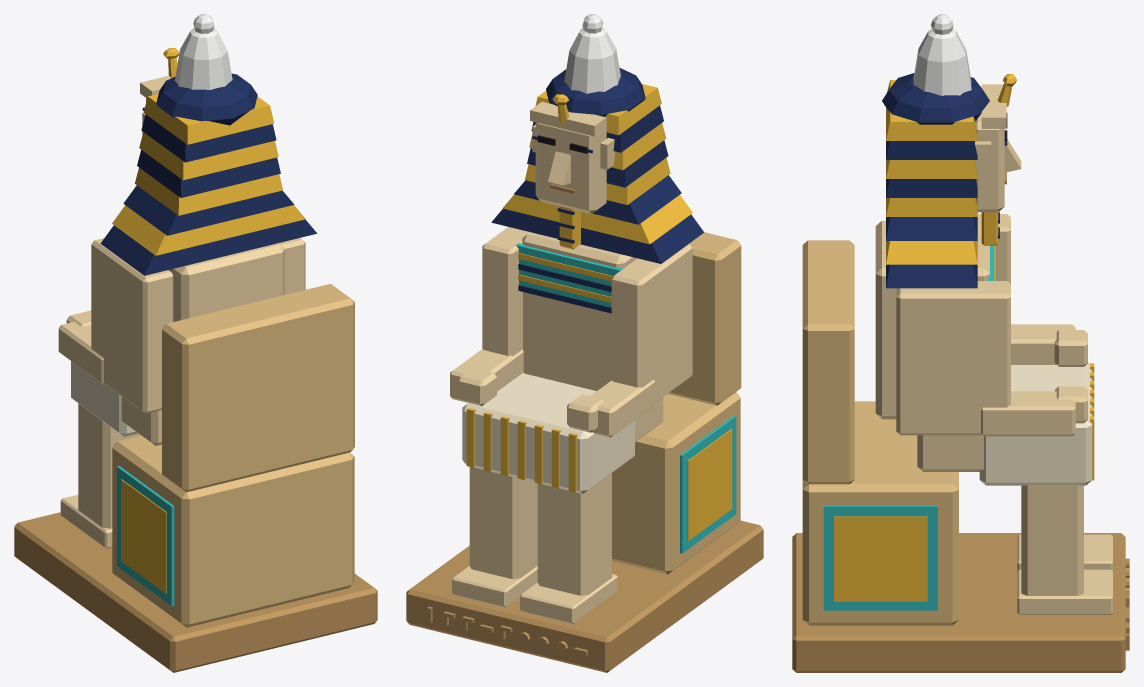
File: PharaohStatue.fbx
The picture shows the model from 3 angles, left to right: view 1: azimuth 30°, elevation 25°; view 2: azimuth 150°, elevation 25°; view 3: azimuth 270°, elevation 25°; orthographic projection. The views are drawn at different scales.
Parts seen in each view (by area): view 1: PharaohStatue_Sandstone, PharaohStatue_SandstoneLight, PharaohStatue_SandstoneDark, PharaohStatue_Navy, PharaohStatue_Gold, PharaohStatue_White, PharaohStatue_Turquoise, PharaohStatue_Cream; view 2: PharaohStatue_SandstoneLight, PharaohStatue_Sandstone, PharaohStatue_SandstoneDark, PharaohStatue_Gold, PharaohStatue_Navy, PharaohStatue_Cream, PharaohStatue_Turquoise, PharaohStatue_White; view 3: PharaohStatue_SandstoneLight, PharaohStatue_Sandstone, PharaohStatue_SandstoneDark, PharaohStatue_Gold, PharaohStatue_Navy, PharaohStatue_Cream, PharaohStatue_Turquoise, PharaohStatue_White.
Boxes of the visible parts, x1,y1,x2,y2 form: PharaohStatue_Sandstone: [112, 283, 354, 627]; PharaohStatue_SandstoneLight: [58, 75, 305, 548]; PharaohStatue_SandstoneDark: [14, 512, 377, 672]; PharaohStatue_Navy: [100, 73, 316, 275]; PharaohStatue_Gold: [112, 48, 305, 593]; PharaohStatue_White: [174, 14, 232, 89]; PharaohStatue_Turquoise: [117, 466, 174, 606]; PharaohStatue_Cream: [71, 361, 137, 436]; PharaohStatue_SandstoneLight: [450, 101, 692, 624]; PharaohStatue_Sandstone: [612, 232, 741, 574]; PharaohStatue_SandstoneDark: [406, 184, 763, 672]; PharaohStatue_Gold: [466, 84, 732, 541]; PharaohStatue_Navy: [491, 68, 704, 313]; PharaohStatue_Cream: [462, 372, 634, 493]; PharaohStatue_Turquoise: [516, 243, 736, 553]; PharaohStatue_White: [564, 14, 620, 93]; PharaohStatue_SandstoneLight: [875, 84, 1112, 614]; PharaohStatue_Sandstone: [802, 240, 958, 625]; PharaohStatue_SandstoneDark: [792, 172, 1129, 672]; PharaohStatue_Gold: [834, 74, 1094, 601]; PharaohStatue_Navy: [882, 73, 1007, 288]; PharaohStatue_Cream: [979, 362, 1092, 485]; PharaohStatue_Turquoise: [823, 245, 994, 610]; PharaohStatue_White: [913, 14, 971, 95].
Size of the model in its own units: 12 by 32.15 by 16.2.
